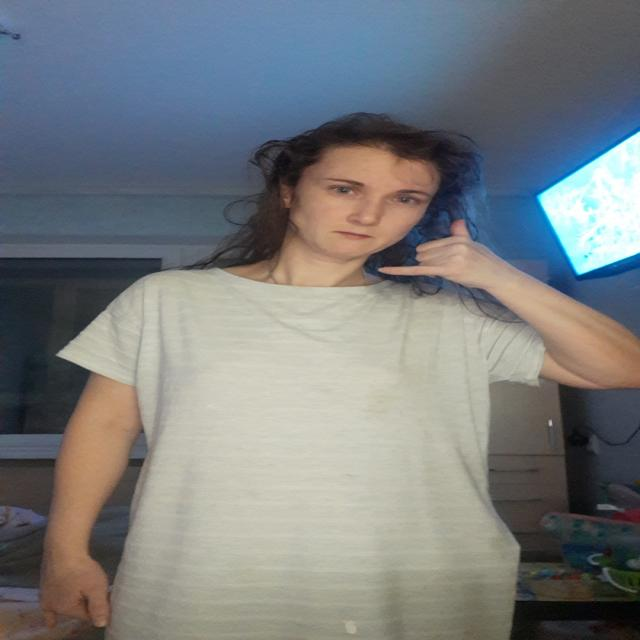call: (373, 217, 509, 288)
